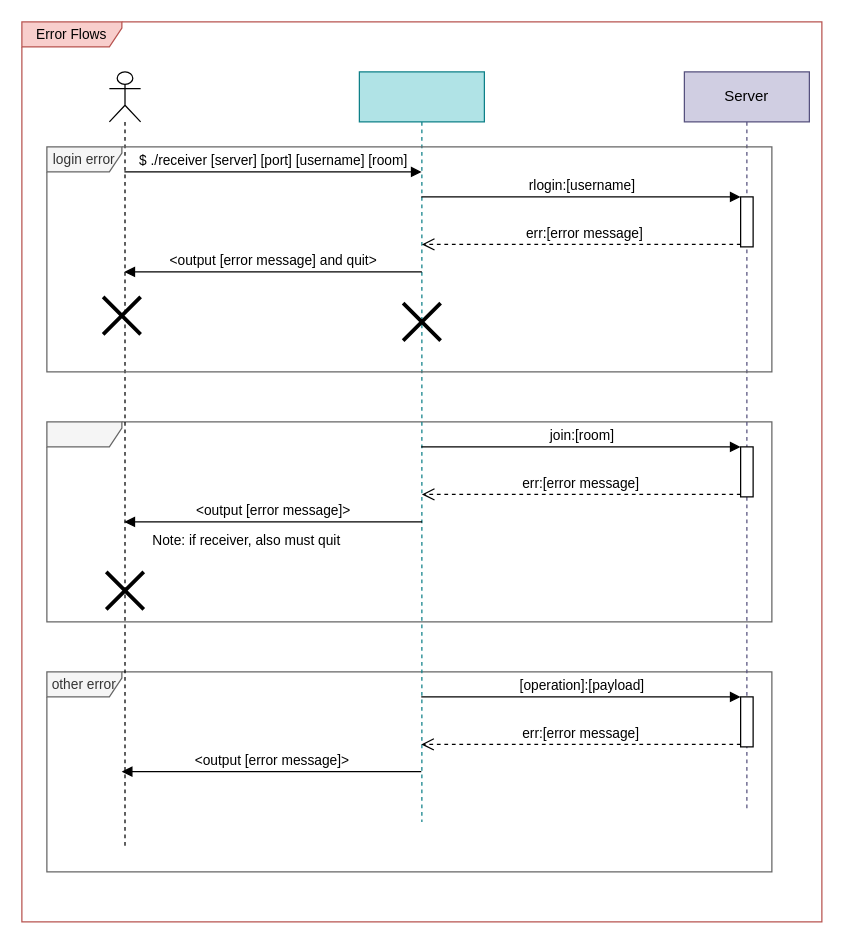
The diagram is 844 pixels wide and 944 high, and some of its shapes have lost their labels. Each missing label, with the box of its shape:
Client: (358, 71, 484, 822)
join error: (46, 421, 772, 622)
